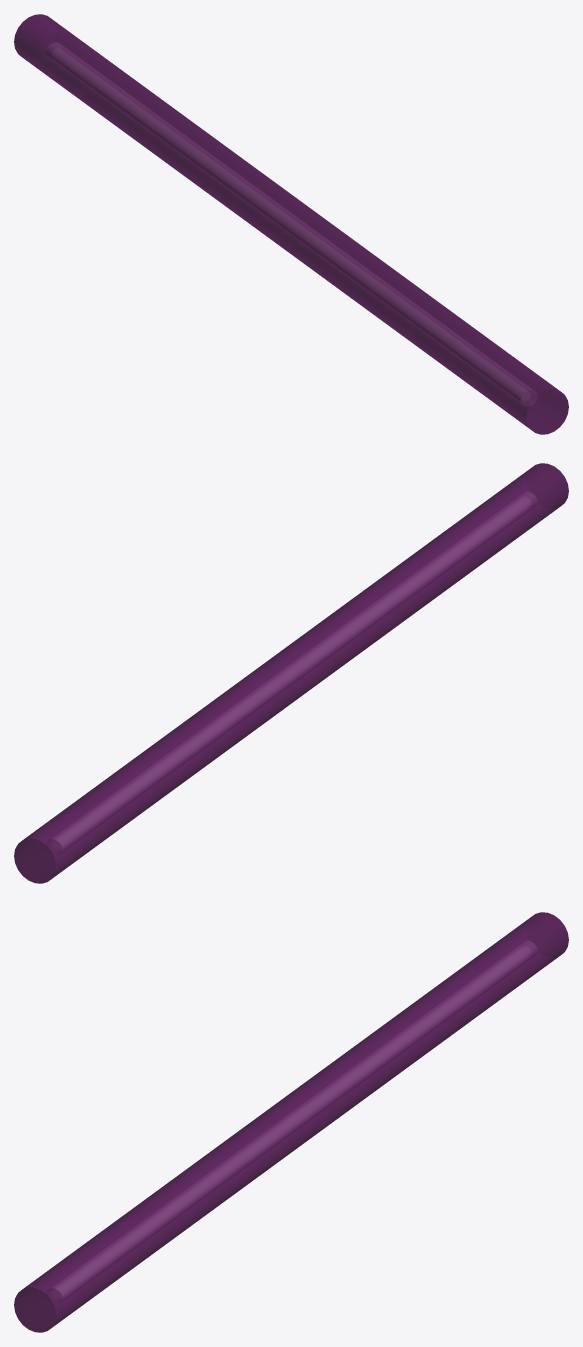
The model's file is Neon_Tube.fbx.
3 renders of one model, top to bottom at view 1: azimuth 30°, elevation 25°; view 2: azimuth 150°, elevation 25°; view 3: azimuth 330°, elevation 25°, orthographic.
Visible parts, largest first — view 1: pCylinder2, pCylinder1; view 2: pCylinder2, pCylinder1; view 3: pCylinder2, pCylinder1.
Part boxes in pixels (<box>): pCylinder2: <box>14,14,568,434</box>; pCylinder1: <box>45,42,537,406</box>; pCylinder2: <box>14,463,568,883</box>; pCylinder1: <box>45,491,537,855</box>; pCylinder2: <box>14,912,568,1332</box>; pCylinder1: <box>45,940,537,1304</box>.
Size of the model in its own units: 0.9022 by 0.9022 by 18.91.
